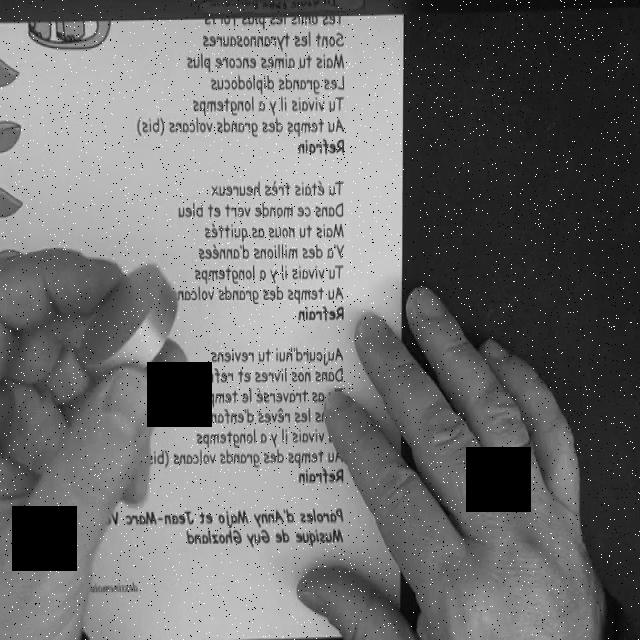round: (79, 261, 179, 385)
